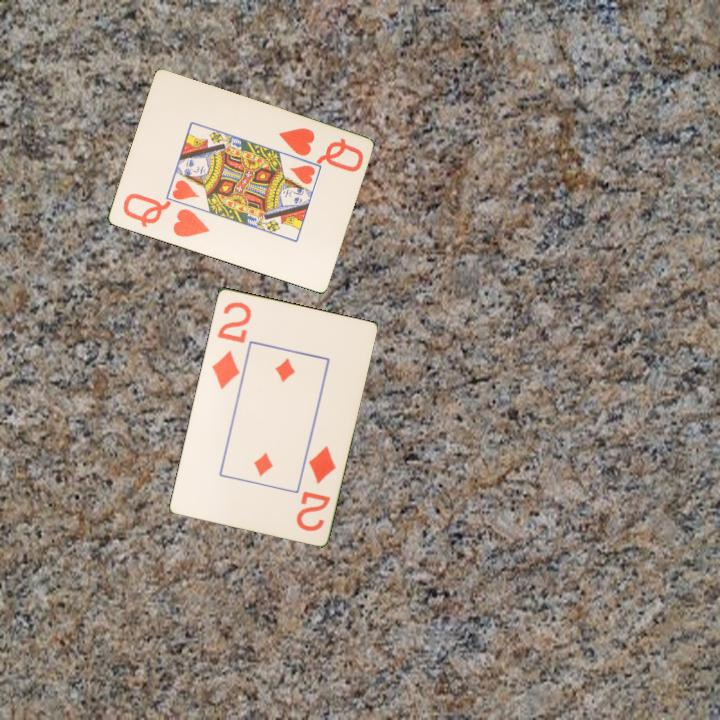2d: (208, 298, 254, 392), (292, 442, 339, 534)
Qh: (119, 190, 212, 240), (275, 124, 366, 175)
